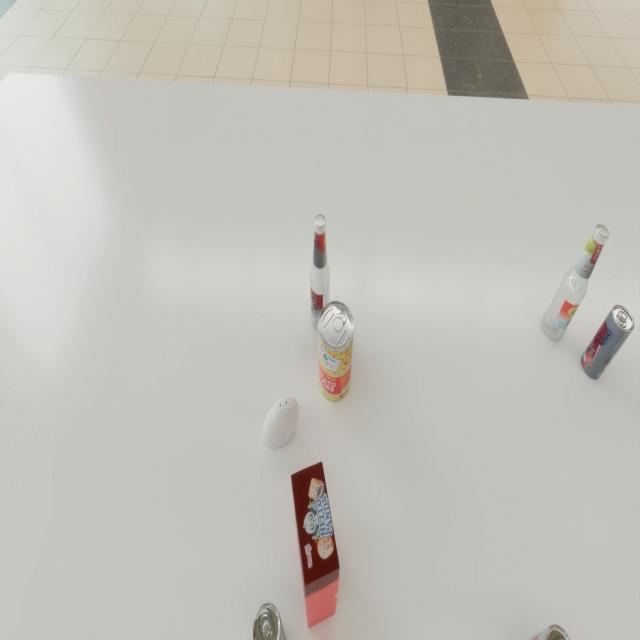Bottle: (542, 224, 609, 341), (309, 214, 331, 331)
HelloPanda: (291, 462, 339, 628)
Potato_sticks: (318, 301, 354, 402)
Rita_zero_sugar: (580, 304, 634, 380)
Salt: (263, 396, 299, 448)
